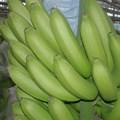banana: (0, 0, 120, 120), (0, 12, 120, 100)
